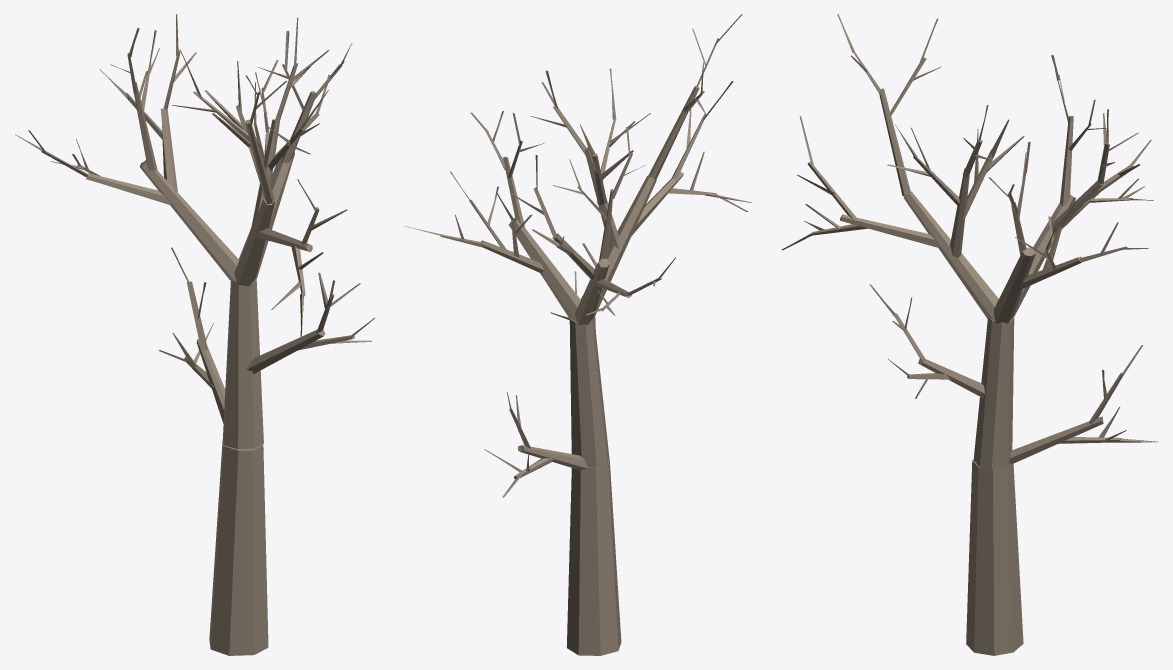
File: bare.glb
The picture shows the model from 3 angles, left to right: view 1: azimuth 30°, elevation 25°; view 2: azimuth 150°, elevation 25°; view 3: azimuth 270°, elevation 25°; orthographic projection. The views are drawn at different scales.
Parts seen in each view (by area): view 1: trunk; view 2: trunk; view 3: trunk.
Part boxes in pixels (x1,y1,x2,y2): trunk: [15, 14, 374, 655]; trunk: [405, 14, 752, 655]; trunk: [781, 14, 1158, 655].
Size of the model in its own units: 3.58 by 8.07 by 4.64.
